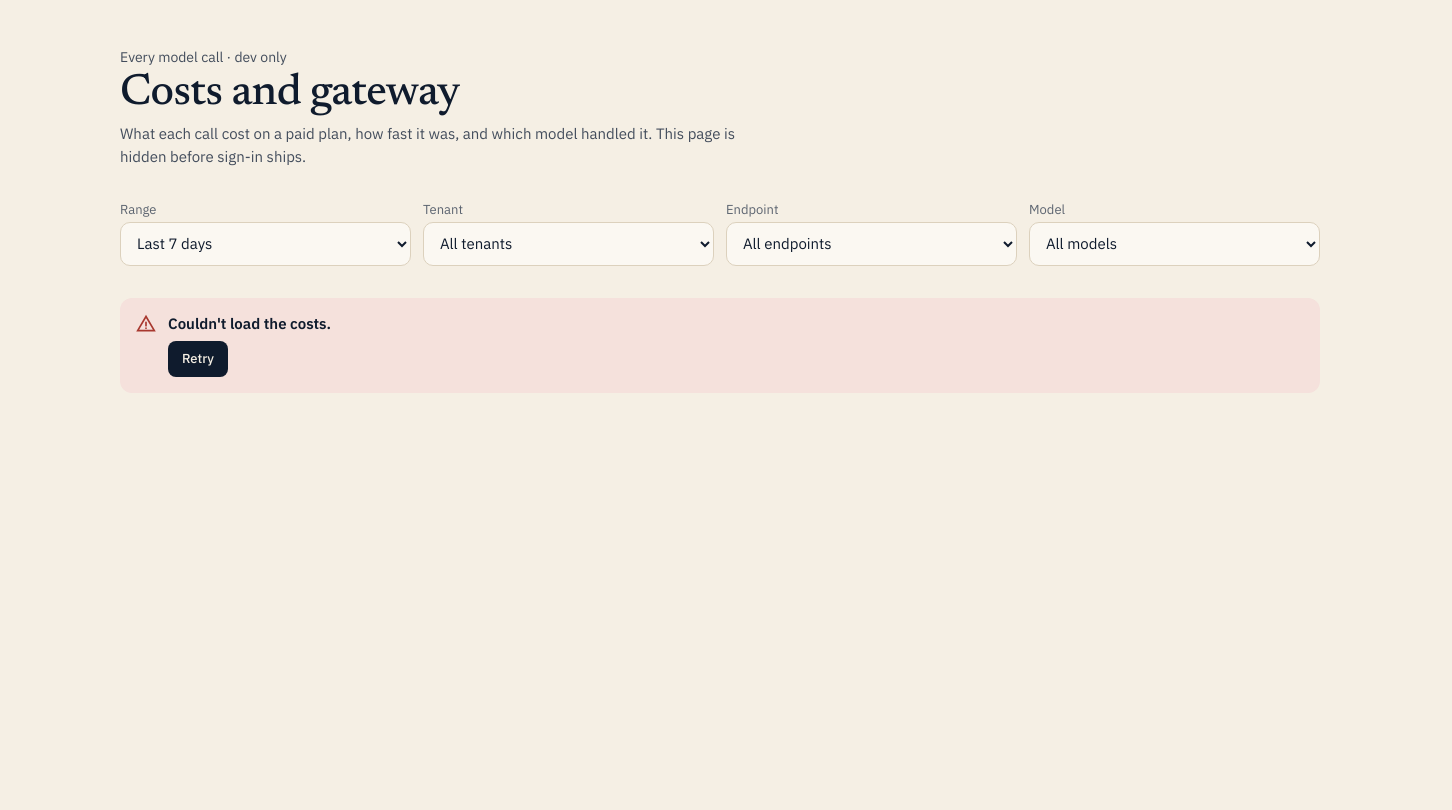
Test case: CostsView › offers Retry when the numbers can't be loaded
The width and height of the screenshot is (1452, 810).
Check: the text "Couldn't load the costs." is shown, box [168,314,331,332]
Click the button "Retry". click: (198, 358)
box: [168,340,228,376]
(page scrolled)
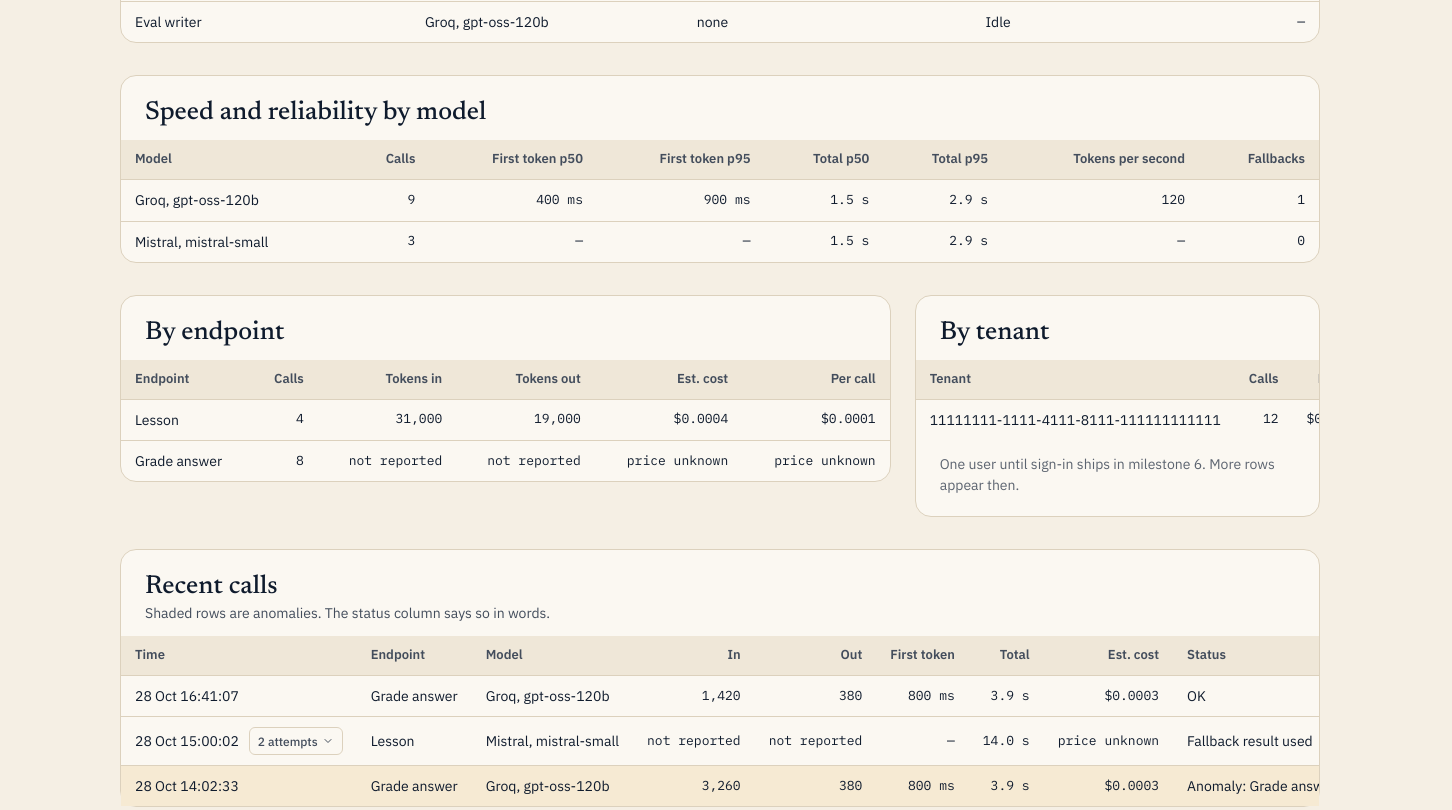
Check: the element "By tenant" is shown, box [915,295,1320,517]
